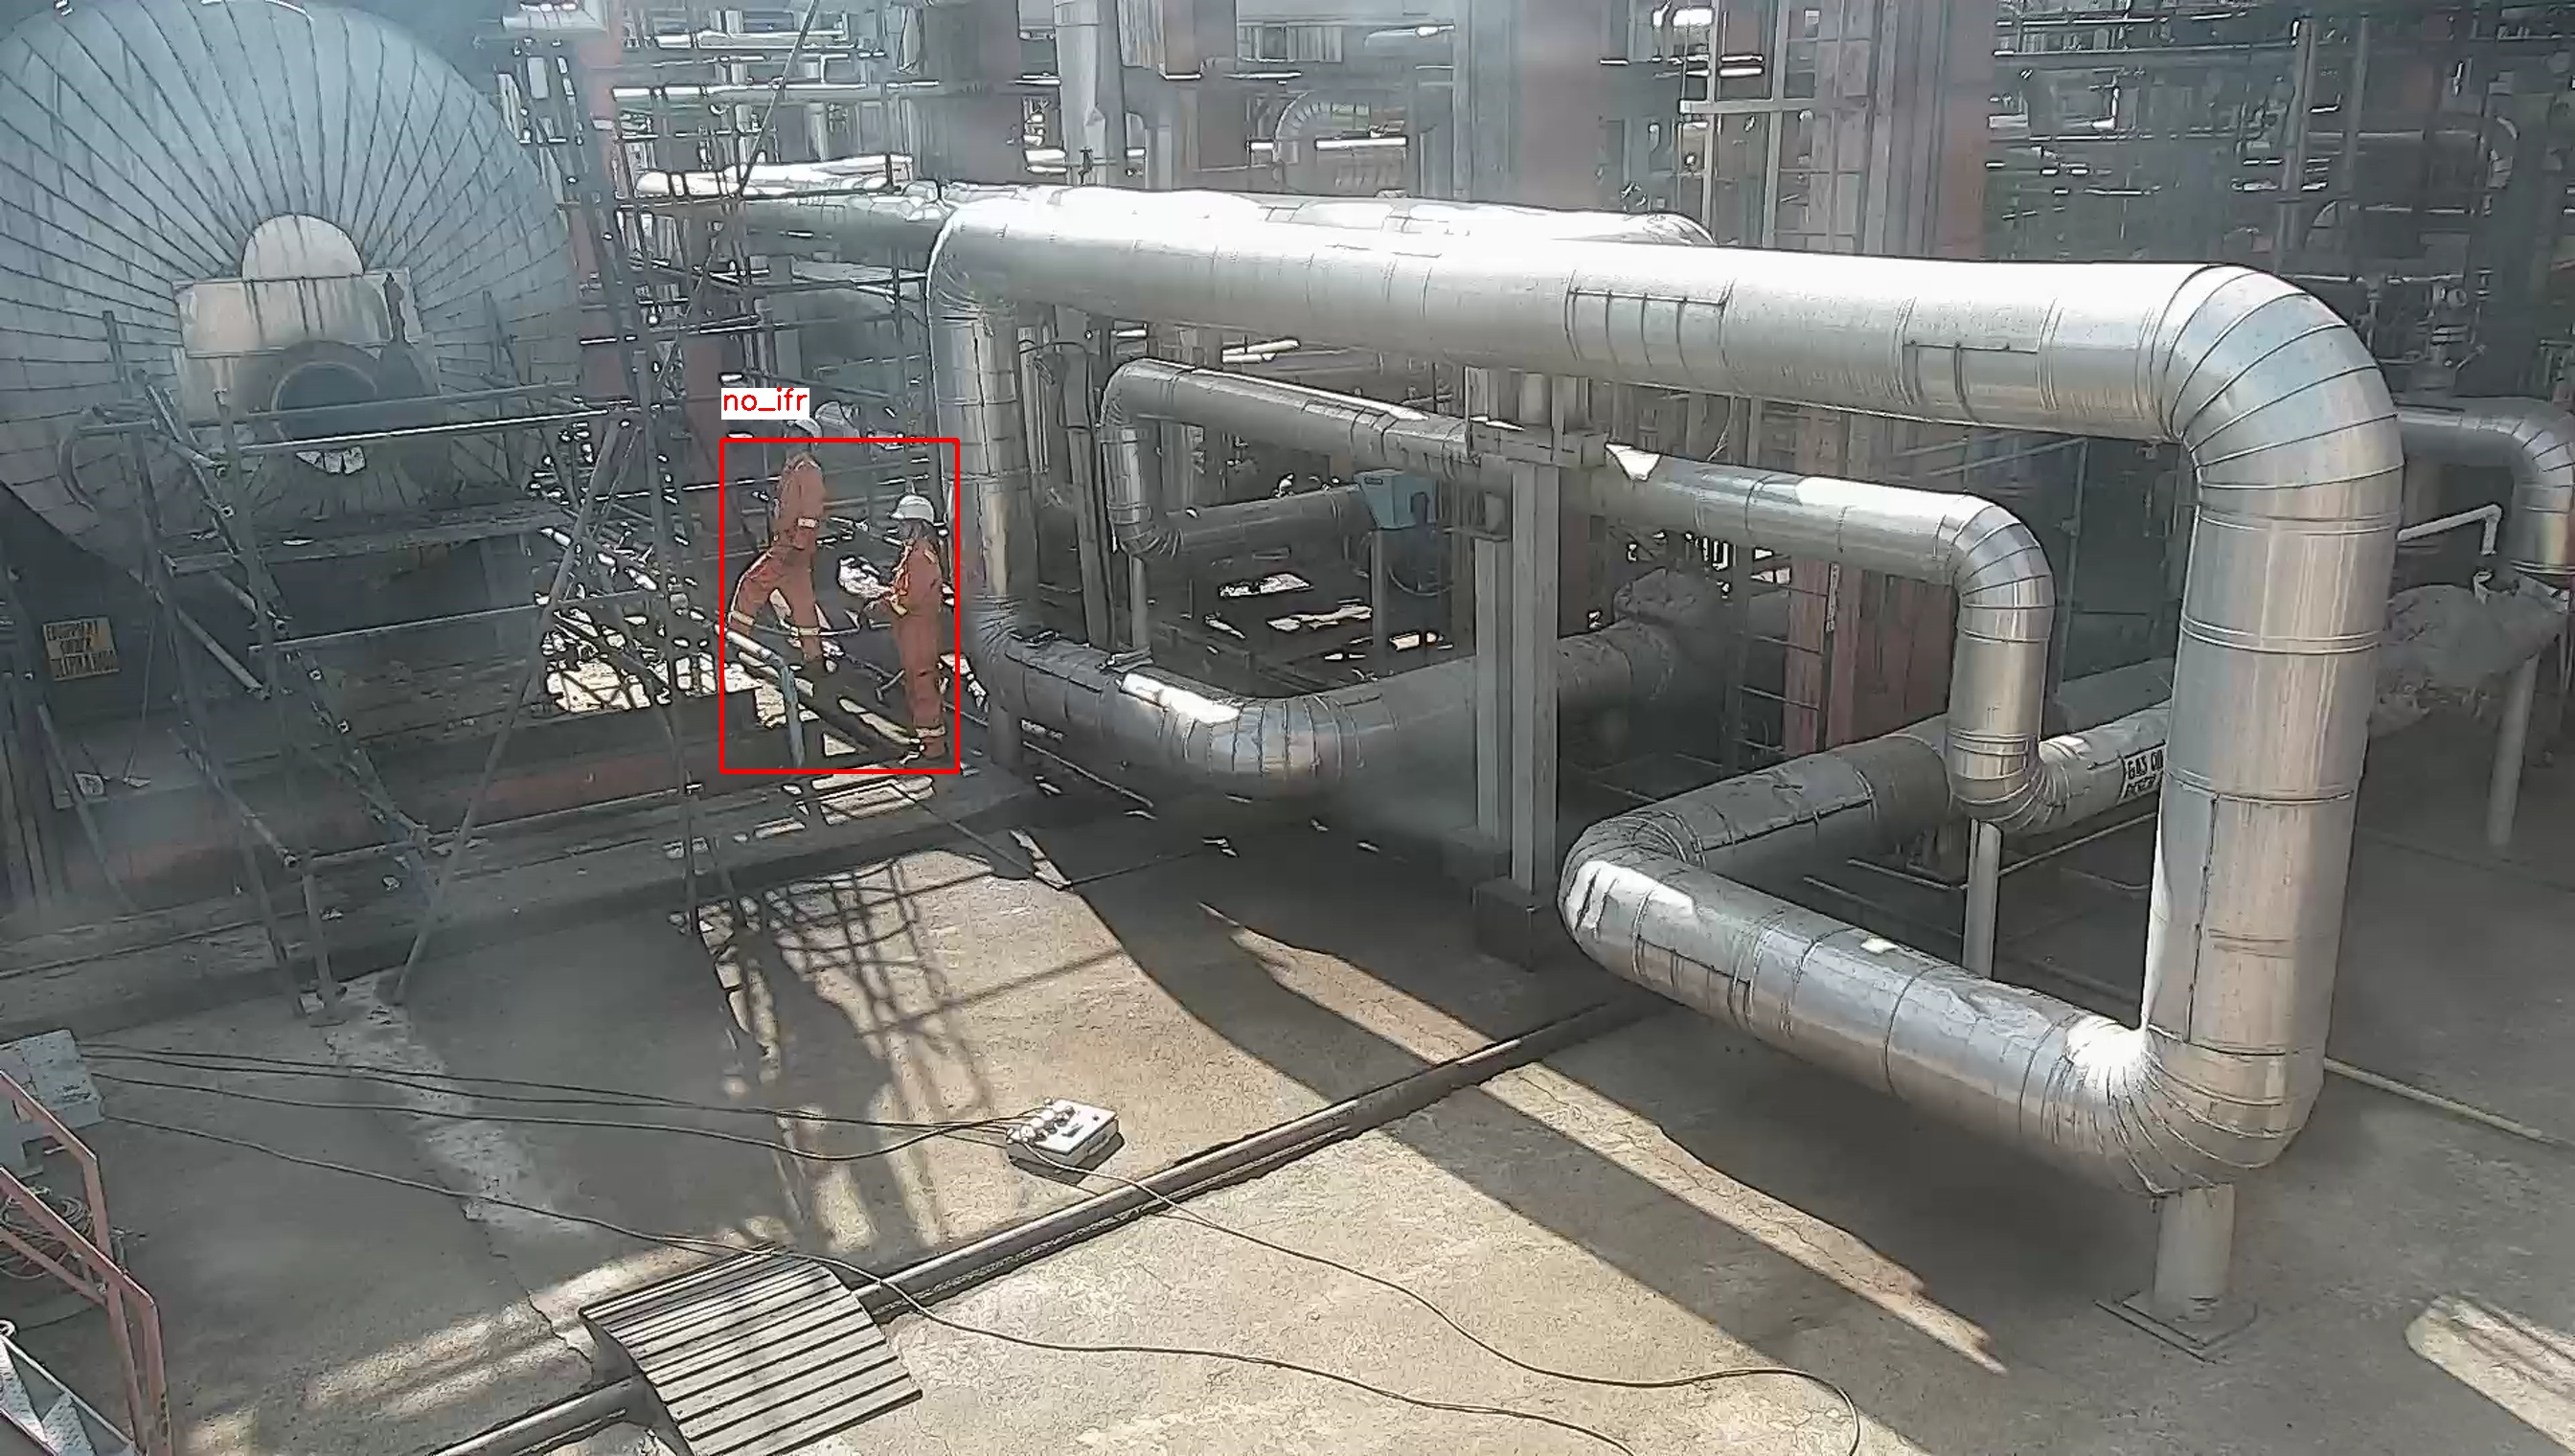Helmets: (884, 494, 937, 525)
IFR_Suit: (863, 541, 951, 762)
